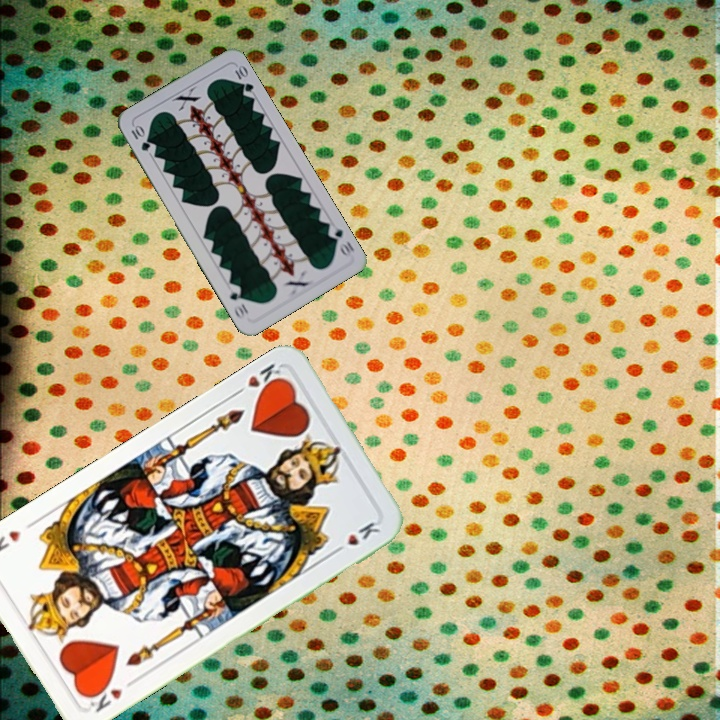G10: (323, 221, 357, 260), (127, 121, 153, 154)
HK: (229, 359, 288, 399), (82, 675, 138, 715)
